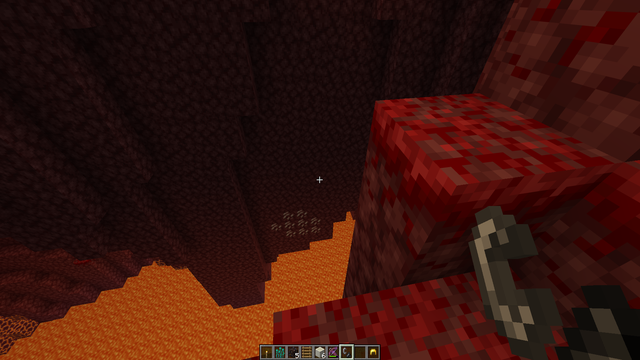quartz: (268, 209, 324, 241)
